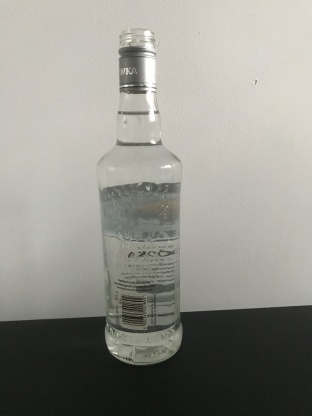nakretka: (117, 27, 158, 94)
